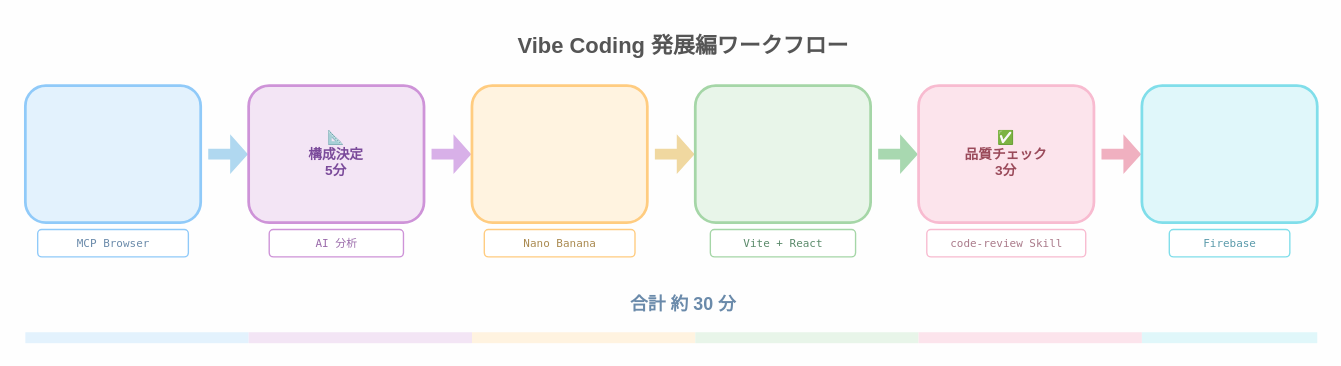
The diagram is 1341 pixels wide and 366 high, and some of its shapes have lost their labels. Each missing label, with the box of its shape:
🎨 ビジュアル生成 5分: (470, 84, 648, 223)
💻 実装 5分: (693, 84, 871, 223)
🔍 Web リサーチ 10分: (23, 84, 201, 223)
🚀 デプロイ 2分: (1140, 84, 1318, 223)
